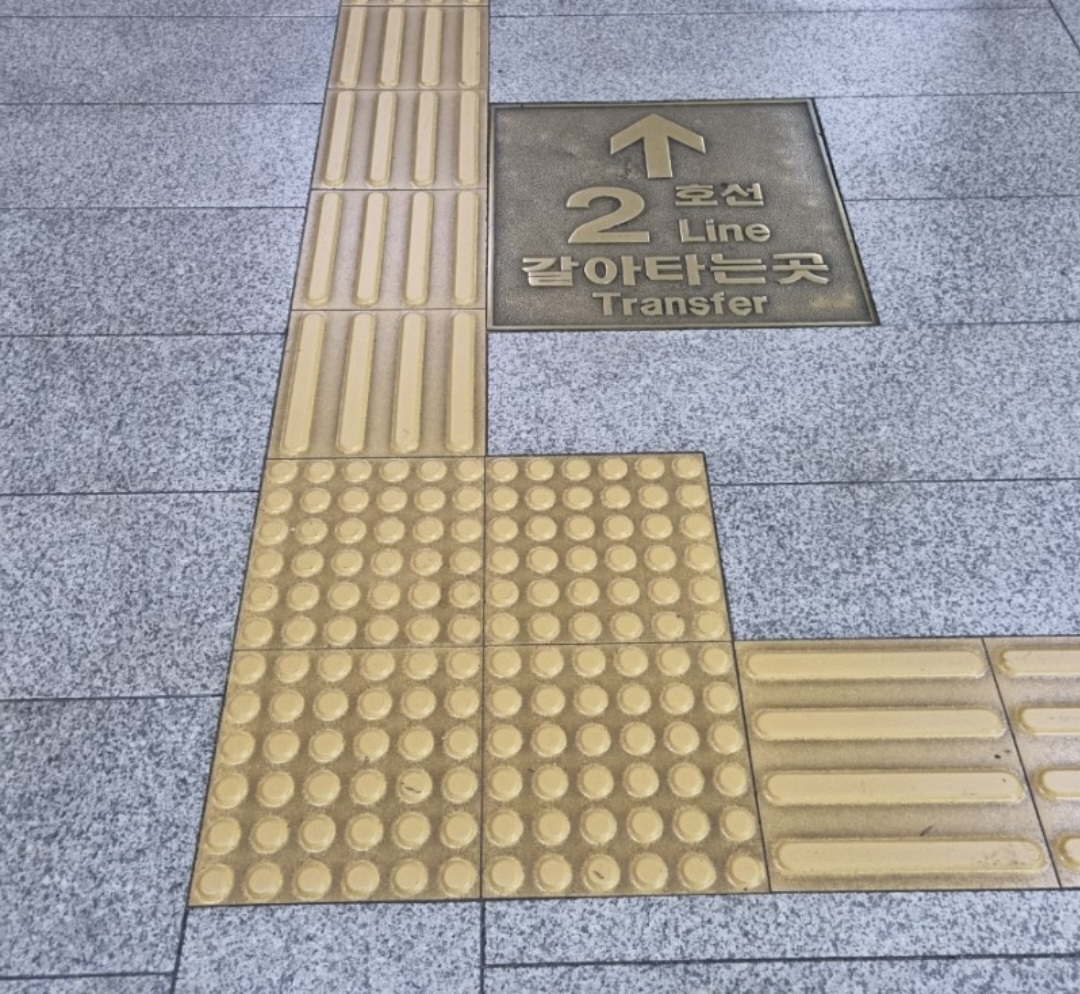guideBlock: (728, 633, 1071, 881), (290, 304, 500, 486), (285, 213, 481, 313), (314, 100, 480, 194), (330, 13, 484, 94)
warningBlock: (466, 646, 767, 893), (213, 661, 489, 892), (487, 457, 721, 642), (248, 476, 482, 644)
